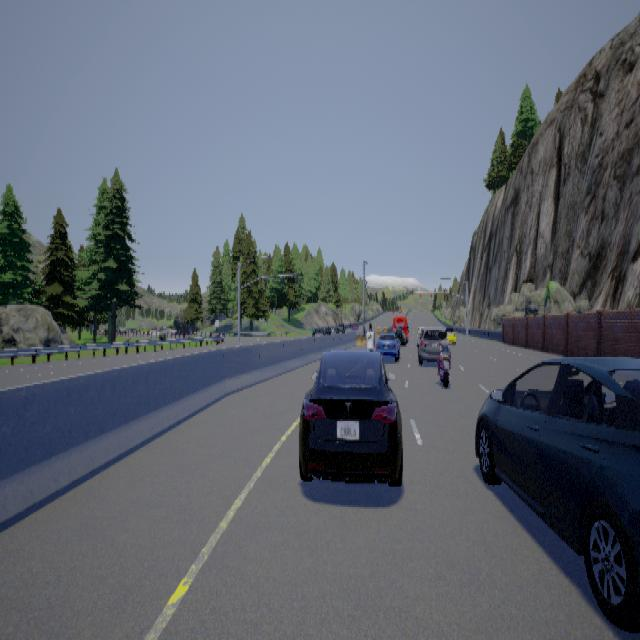motobike: (435, 330, 456, 386)
vehicle: (474, 356, 639, 632), (298, 345, 402, 490), (416, 325, 450, 362), (375, 330, 400, 357)
